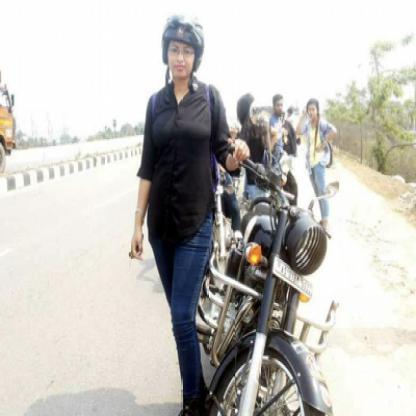With Helmet: (158, 11, 208, 84)
